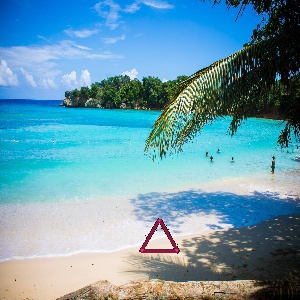triangle: (136, 215, 184, 257)
